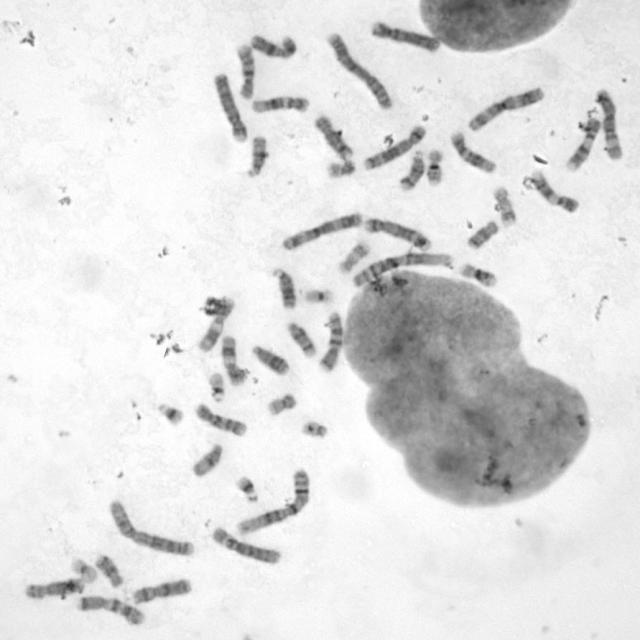A1: (233, 466, 312, 536), (349, 248, 455, 290)
A2: (323, 28, 395, 112), (105, 496, 197, 558)
A3: (464, 83, 547, 134), (278, 208, 366, 252)
B4: (210, 70, 248, 144), (368, 17, 441, 54)
B5: (360, 122, 429, 171), (362, 214, 432, 253)
C10: (191, 398, 249, 439), (233, 40, 257, 102)
C11: (194, 292, 236, 354), (218, 331, 247, 387)
C12: (447, 128, 497, 176), (248, 92, 311, 115)
C6: (208, 523, 283, 567), (592, 86, 625, 162)
C7: (74, 592, 148, 627), (315, 307, 345, 374)
C8: (311, 112, 355, 162), (21, 574, 85, 600)
C9: (528, 168, 580, 214), (562, 115, 602, 173)
D13: (248, 340, 291, 378), (268, 264, 298, 311)
D14: (284, 318, 318, 360), (396, 147, 426, 192)
D15: (189, 440, 225, 479), (242, 131, 269, 181)
E16: (458, 260, 499, 288), (423, 146, 445, 188)
E17: (336, 238, 372, 276), (491, 182, 517, 229)
E18: (92, 550, 125, 589), (464, 217, 500, 251)
F19: (67, 554, 100, 585), (301, 286, 337, 306)
F20: (264, 389, 298, 417), (324, 156, 358, 179)
G21: (154, 398, 188, 428), (232, 472, 261, 504)
G22: (204, 369, 228, 404), (298, 417, 329, 439)
X: (129, 575, 193, 605), (247, 30, 300, 60)
